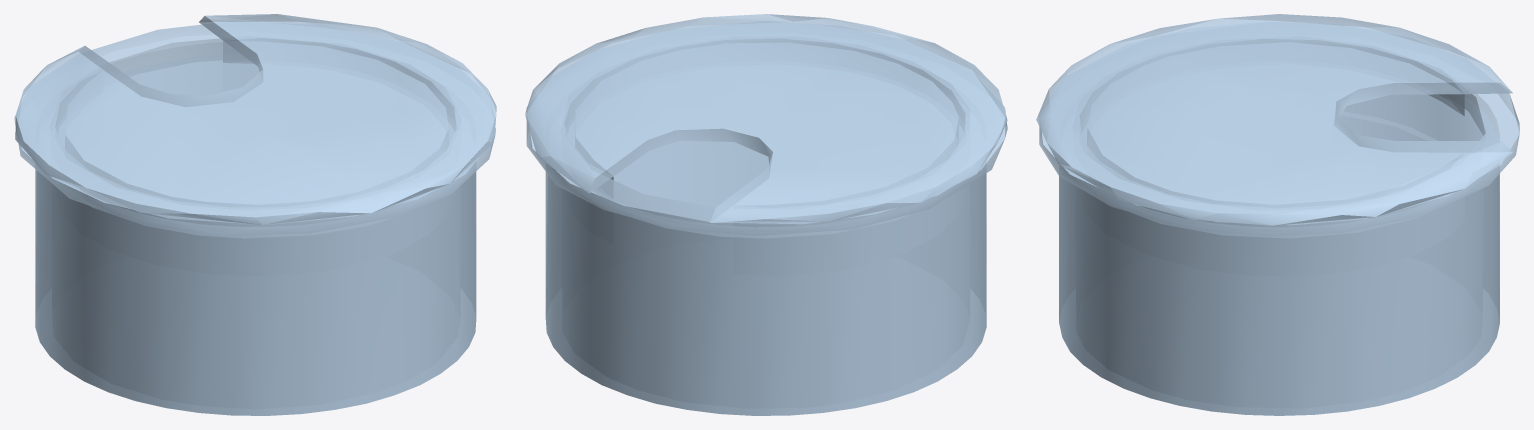
The model's file is MPR050004.glb.
3 views of the same model, side by side, from view 1: azimuth 30°, elevation 25°; view 2: azimuth 150°, elevation 25°; view 3: azimuth 270°, elevation 25° (orthographic).
Visible parts, largest first — view 1: 11; view 2: 11; view 3: 11.
Boxes of the visible parts, <box> form: 11: <box>14,14,496,415</box>; 11: <box>525,14,1007,415</box>; 11: <box>1036,14,1519,415</box>.
Size of the model in its own units: 0.0767 by 0.0368 by 0.0763.
